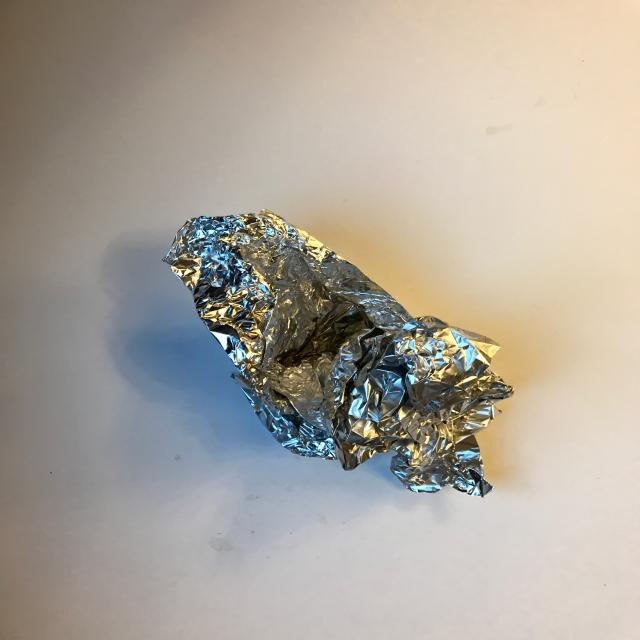metal: (162, 208, 514, 498)
